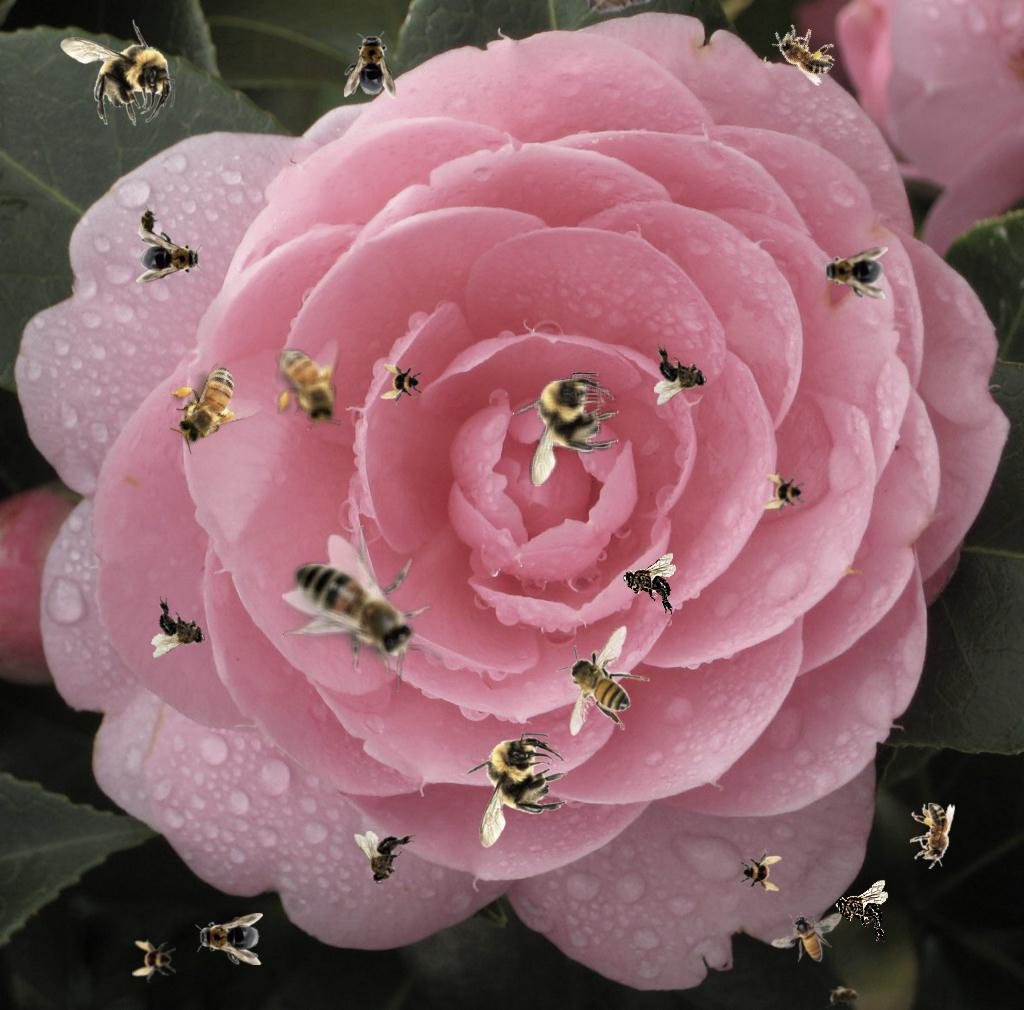Bee: (282, 525, 444, 692), (60, 19, 175, 126), (461, 733, 568, 848), (512, 372, 619, 487), (152, 353, 268, 458), (556, 625, 650, 736), (275, 337, 343, 430), (763, 15, 843, 88), (149, 595, 210, 663), (771, 912, 842, 962), (195, 913, 263, 965), (820, 247, 888, 299), (136, 231, 204, 283), (344, 31, 396, 99), (354, 831, 416, 884), (835, 880, 888, 942), (654, 343, 707, 405), (623, 553, 676, 615), (910, 803, 955, 869), (763, 472, 807, 516), (132, 939, 176, 983), (738, 849, 782, 893), (380, 362, 424, 406), (825, 986, 865, 1008), (138, 204, 160, 244)
